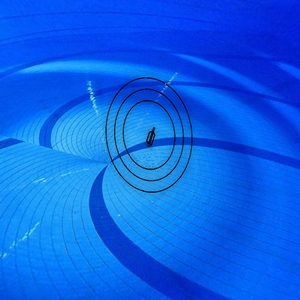circle: (103, 74, 195, 196)
submarine: (141, 124, 160, 149)
